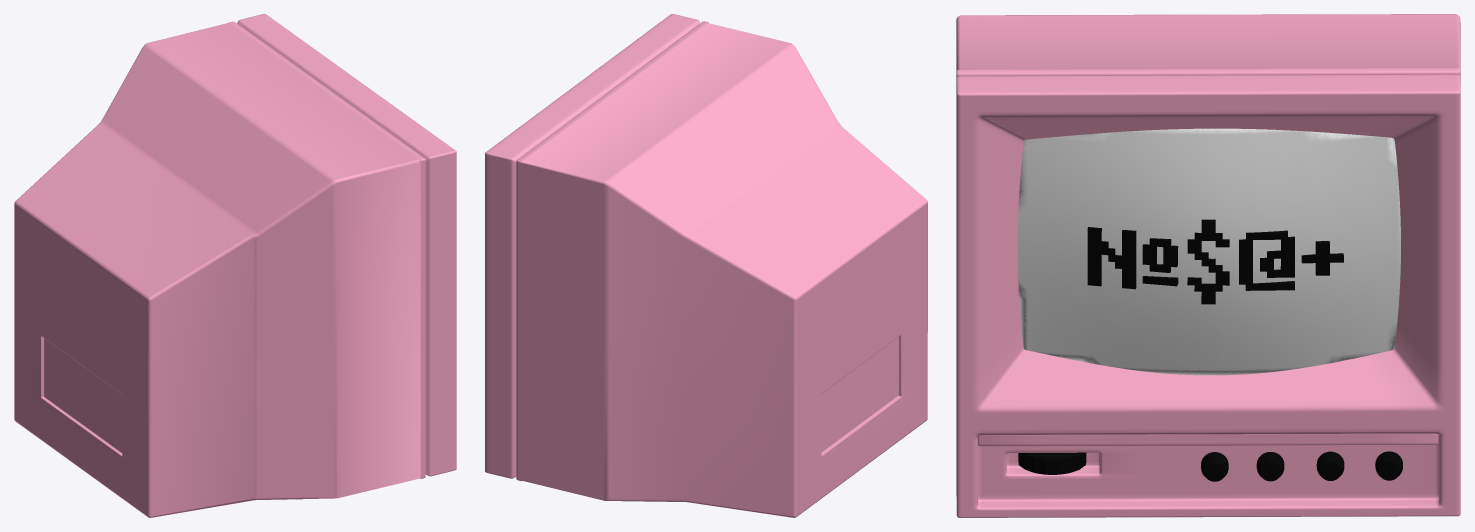
3 renders of one model, left to right at view 1: azimuth 30°, elevation 25°; view 2: azimuth 150°, elevation 25°; view 3: azimuth 270°, elevation 25°, orthographic. The views are drawn at different scales.
Parts seen in each view (by area): view 1: TV, Crt tv 02-Freepoly.org; view 2: TV, Crt tv 02-Freepoly.org; view 3: Crt tv 02-Freepoly.org, TV, Curve.003, Curve.001, Curve.002, Curve.
Boxes of the visible parts, x1=… form: TV: x1=14, y1=23, x2=420, y2=517; Crt tv 02-Freepoly.org: x1=229, y1=14, x2=456, y2=478; TV: x1=518, y1=23, x2=927, y2=517; Crt tv 02-Freepoly.org: x1=485, y1=14, x2=708, y2=481; Crt tv 02-Freepoly.org: x1=956, y1=68, x2=1460, y2=517; TV: x1=956, y1=14, x2=1460, y2=85; Curve.003: x1=1087, y1=227, x2=1178, y2=289; Curve.001: x1=1239, y1=230, x2=1294, y2=290; Curve.002: x1=1187, y1=219, x2=1229, y2=304; Curve: x1=1301, y1=241, x2=1343, y2=275.
Bounding box in the file's own units: 1.12 × 1.2 × 1.29.
5 materials, 1 textured.
